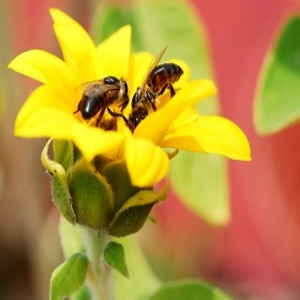bee: (132, 49, 185, 113), (75, 75, 128, 129)
